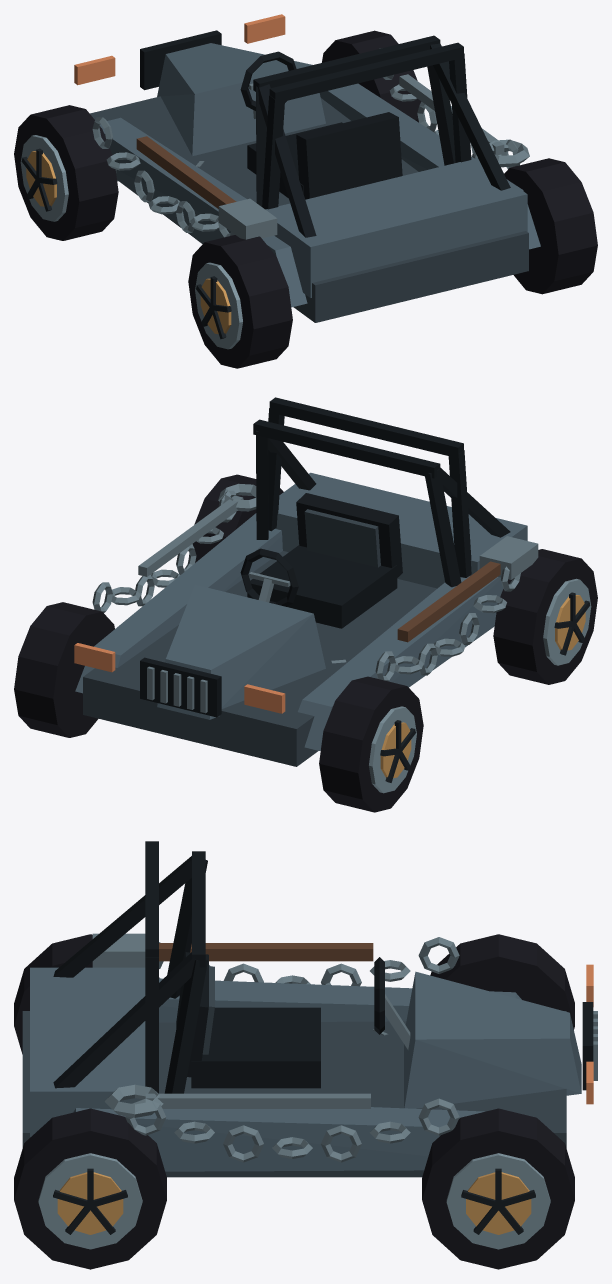
Rendered from kart.glb.
3 renders of one model, top to bottom at view 1: azimuth 30°, elevation 25°; view 2: azimuth 150°, elevation 25°; view 3: azimuth 270°, elevation 25°, orthographic. The views are drawn at different scales.
Visible parts, largest first — view 1: identity-buggy-buggy-offroad-frame, wheel-rear-left, wheel-front-left, identity-buggy-driver-cockpit, wheel-rear-right, identity-buggy-motif-rollbar, identity-buggy-motif-tools, identity-buggy-motif-chains, wheel-front-right; view 2: identity-buggy-buggy-offroad-frame, identity-buggy-driver-cockpit, wheel-front-left, wheel-rear-left, wheel-front-right, identity-buggy-motif-rollbar, identity-buggy-motif-tools, identity-buggy-motif-chains, wheel-rear-right; view 3: identity-buggy-buggy-offroad-frame, wheel-front-right, wheel-rear-right, identity-buggy-driver-cockpit, identity-buggy-motif-tools, identity-buggy-motif-chains, wheel-front-left, identity-buggy-motif-rollbar, wheel-rear-left.
Part boxes in pixels (x1,y1,x2,y2): identity-buggy-buggy-offroad-frame: [74, 14, 540, 322]; wheel-rear-left: [188, 235, 292, 368]; wheel-front-left: [14, 105, 118, 240]; identity-buggy-driver-cockpit: [240, 51, 402, 199]; wheel-rear-right: [504, 158, 597, 294]; identity-buggy-motif-rollbar: [262, 42, 471, 209]; identity-buggy-motif-tools: [136, 74, 529, 239]; identity-buggy-motif-chains: [92, 48, 519, 237]; wheel-front-right: [322, 30, 421, 122]; identity-buggy-buggy-offroad-frame: [74, 419, 527, 766]; identity-buggy-driver-cockpit: [240, 493, 402, 628]; wheel-front-left: [319, 676, 423, 812]; wheel-rear-left: [493, 549, 597, 684]; wheel-front-right: [14, 602, 114, 737]; identity-buggy-motif-rollbar: [268, 397, 471, 577]; identity-buggy-motif-tools: [138, 483, 538, 642]; identity-buggy-motif-chains: [92, 490, 520, 681]; wheel-rear-right: [189, 474, 283, 562]; identity-buggy-buggy-offroad-frame: [22, 851, 597, 1177]; wheel-front-right: [422, 1108, 574, 1269]; wheel-rear-right: [14, 1108, 166, 1269]; identity-buggy-driver-cockpit: [176, 952, 410, 1088]; identity-buggy-motif-tools: [92, 933, 373, 1117]; identity-buggy-motif-chains: [125, 937, 459, 1162]; wheel-front-left: [430, 934, 574, 1029]; identity-buggy-motif-rollbar: [145, 841, 158, 1093]; wheel-rear-left: [14, 934, 159, 1054].
Size of the model in its own units: 2.31 by 1.43 by 2.75.
